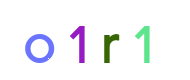1: (55, 0, 135, 80), (102, 0, 182, 80)
O: (16, 0, 96, 80)
R: (68, 0, 148, 80)
